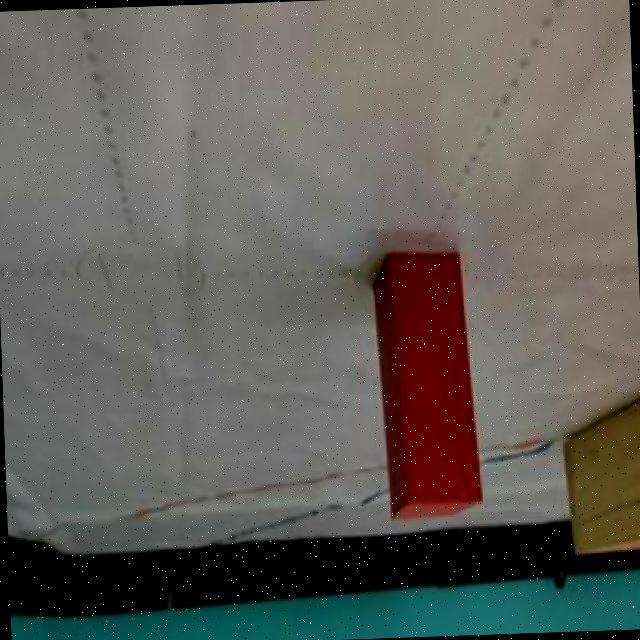redbox: (372, 248, 482, 522)
